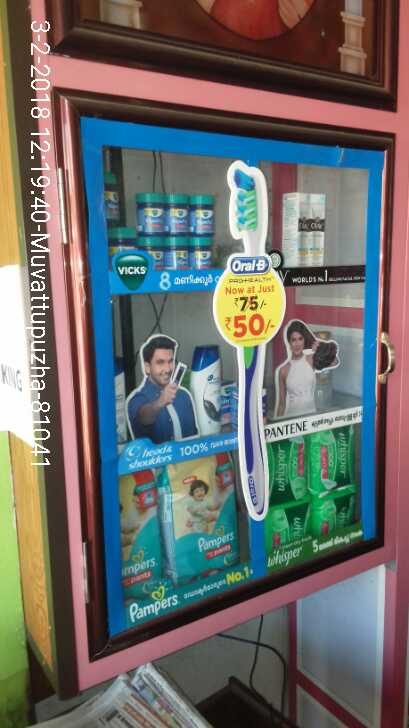vicks: (139, 193, 225, 271)
